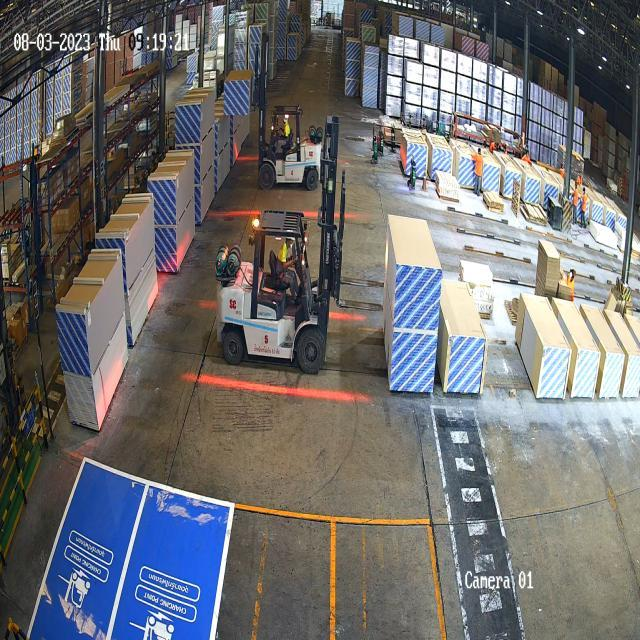driver: (268, 233, 302, 303), (274, 112, 292, 158)
forklift: (211, 201, 344, 384), (256, 102, 324, 192)
person: (472, 144, 484, 198), (582, 186, 588, 229), (573, 180, 578, 226)
